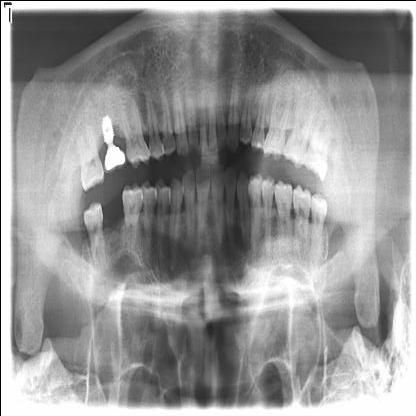Bicon: (99, 110, 117, 140)
